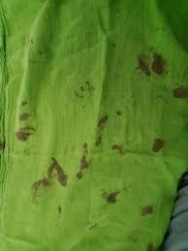blood: (32, 156, 68, 191), (137, 50, 167, 78), (78, 141, 90, 181), (15, 126, 35, 142), (102, 190, 119, 206), (151, 137, 165, 153), (172, 86, 187, 100), (98, 114, 110, 127), (141, 204, 153, 216), (96, 135, 102, 144)
